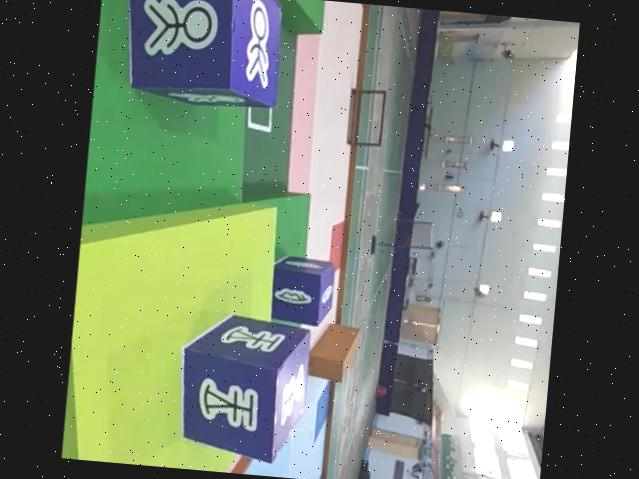R2 Real Blue: (172, 314, 312, 468), (111, 0, 282, 112), (263, 254, 334, 328)
